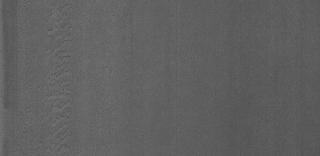silk spot: (40, 4, 80, 142)
